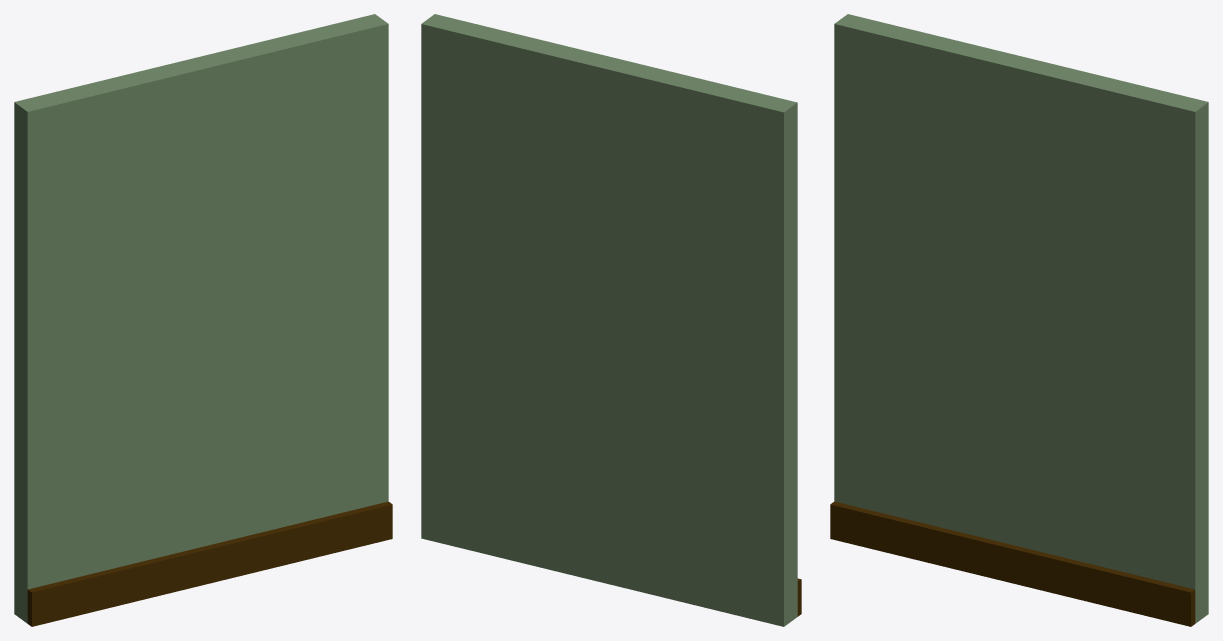
Rendered from Ma_Wall_Medium.fbx.
3 renders of one model, left to right at view 1: azimuth 30°, elevation 25°; view 2: azimuth 150°, elevation 25°; view 3: azimuth 330°, elevation 25°, orthographic.
Parts seen in each view (by area): view 1: Ma_Wall_Medium; view 2: Ma_Wall_Medium; view 3: Ma_Wall_Medium.
Boxes of the visible parts, x1=… form: Ma_Wall_Medium: x1=14, y1=14, x2=392, y2=626; Ma_Wall_Medium: x1=421, y1=14, x2=801, y2=626; Ma_Wall_Medium: x1=830, y1=14, x2=1208, y2=626.
Size of the model in its own units: 2000 by 170 by 2711.
